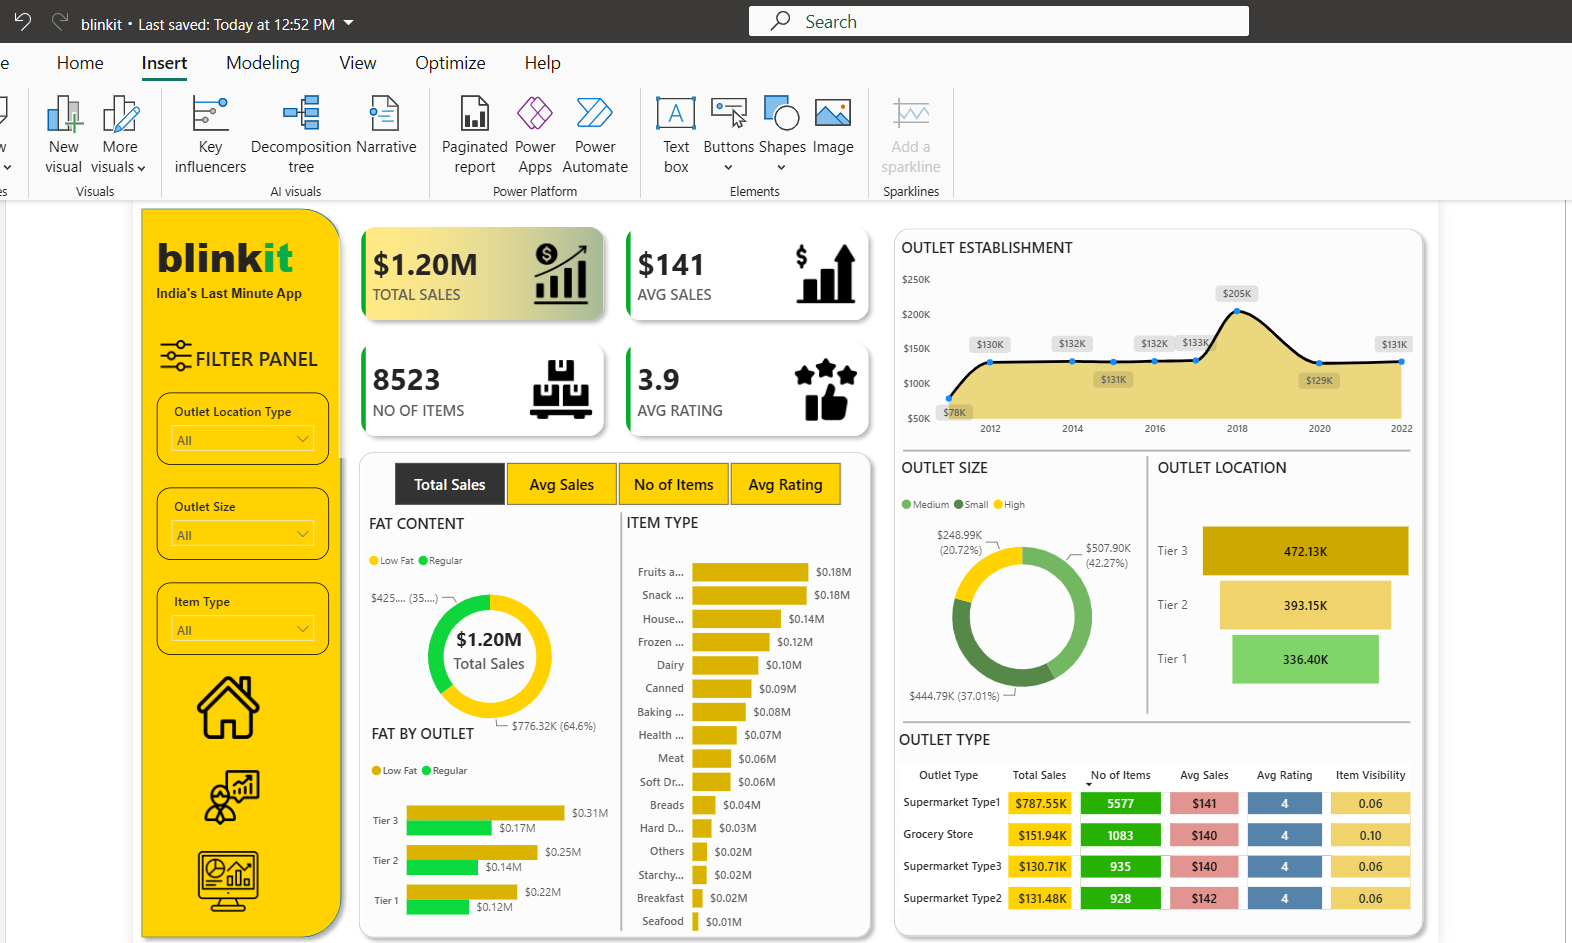

What the dashboard file says about the page in this screenshot:
{"tool":"powerbi","page":{"name":"Page 1","canvas":[1400,800],"ordinal":0},"visuals":[{"type":"shape","box":[0,0,232.6,800],"z":0},{"type":"textbox","box":[20,25.7,172.9,71],"z":1000},{"type":"textbox","box":[20,85.7,195.7,44.2],"z":2000},{"type":"cardVisual","fields":{"Data":["_Measures.Total Sales","_Measures.Avg Sales","_Measures.No of Items","_Measures.Avg Rating"]},"box":[215.7,0,603.3,283.7],"z":3000},{"type":"shape","box":[232.9,261.4,567.1,538.6],"z":4000},{"type":"donutChart","title":"FAT CONTENT","fields":{"Y":["_Measures.Avg Rating"],"Category":["BlinkIT Grocery Data (2).Item Fat Content"]},"box":[248.6,335.7,270,250],"z":5000},{"type":"slicer","fields":{"Values":["Metrics.Metrics"]},"box":[254.7,274.8,528.2,59],"z":6000},{"type":"cardVisual","fields":{"Data":["_Measures.Avg Rating"]},"box":[310,432.9,144.3,98.6],"z":7000},{"type":"clusteredBarChart","title":"FAT BY OUTLET","fields":{"Y":["_Measures.Avg Rating"],"Category":["BlinkIT Grocery Data (2).Outlet Location Type"],"Series":["BlinkIT Grocery Data (2).Item Fat Content"]},"box":[250.7,560.3,268.6,230],"z":8000},{"type":"shape","box":[455.7,335.7,135.7,448.6],"z":9000},{"type":"barChart","title":"ITEM TYPE","fields":{"Y":["_Measures.Avg Rating"],"Category":["BlinkIT Grocery Data (2).Item Type"]},"box":[524.1,333.8,252,465.1],"z":10000},{"type":"shape","box":[807.1,21.4,585.7,777.1],"z":11000},{"type":"lineChart","title":"OUTLET ESTABLISHMENT","fields":{"Y":["_Measures.Total Sales"],"Category":["BlinkIT Grocery Data (2).Outlet Establishment Year"]},"box":[818.6,38.6,558.6,222.9],"z":12000},{"type":"shape","box":[825.7,219.8,544.2,97.9],"z":13000},{"type":"donutChart","title":"OUTLET SIZE","fields":{"Y":["_Measures.Total Sales"],"Category":["BlinkIT Grocery Data (2).Outlet Size"]},"box":[819,274.8,269.4,285.5],"z":14000},{"type":"shape","box":[1020.1,274.8,135.4,276.1],"z":15000},{"type":"funnel","title":"OUTLET LOCATION","fields":{"Y":["Sum(BlinkIT Grocery Data (2).Sales)"],"Category":["BlinkIT Grocery Data (2).Outlet Location Type"]},"box":[1093.8,274.8,284.2,285.5],"z":16000},{"type":"shape","box":[825.7,510.7,544.3,98.6],"z":17000},{"type":"pivotTable","title":"OUTLET TYPE","fields":{"Rows":["BlinkIT Grocery Data (2).Outlet Type"],"Values":["_Measures.Total Sales","_Measures.No of Items","_Measures.Avg Sales","_Measures.Avg Rating","Avg(BlinkIT Grocery Data (2).Item Visibility)"]},"box":[816.4,567,568.4,213.1],"z":18000},{"type":"slicer","fields":{"Values":["BlinkIT Grocery Data (2).Outlet Location Type"]},"box":[25.5,206.4,185,77.7],"z":19000},{"type":"slicer","fields":{"Values":["BlinkIT Grocery Data (2).Outlet Size"]},"box":[25.5,308.3,185,77.7],"z":20000},{"type":"slicer","fields":{"Values":["BlinkIT Grocery Data (2).Item Type"]},"box":[25.5,410.2,185,77.7],"z":21000},{"type":"textbox","box":[61.5,150.1,153.1,49.5],"z":21001},{"type":"image","box":[17.4,150.1,57.6,33.5],"z":21002},{"type":"image","box":[46.9,697.1,109.9,67],"z":21003},{"type":"image","box":[50.9,607.2,109.9,67],"z":21004},{"type":"image","box":[46.9,510.7,109.9,67],"z":21005}]}

Visuals, with their boxes on the page's 1400x800 design canvas (x1, y1, x2, y2). These are canvas units, not pixel positions in the 1572x943 screenshot, which may show the page scaled, cropped or inside an application window:
shape: box(0, 0, 233, 800)
textbox: box(20, 26, 193, 97)
textbox: box(20, 86, 216, 130)
cardVisual - _Measures.Total Sales x _Measures.Avg Sales: box(216, 0, 819, 284)
shape: box(233, 261, 800, 800)
"FAT CONTENT" donutChart: box(249, 336, 519, 586)
slicer - Metrics.Metrics: box(255, 275, 783, 334)
cardVisual - _Measures.Avg Rating: box(310, 433, 454, 532)
"FAT BY OUTLET" clusteredBarChart: box(251, 560, 519, 790)
shape: box(456, 336, 591, 784)
"ITEM TYPE" barChart: box(524, 334, 776, 799)
shape: box(807, 21, 1393, 798)
"OUTLET ESTABLISHMENT" lineChart: box(819, 39, 1377, 262)
shape: box(826, 220, 1370, 318)
"OUTLET SIZE" donutChart: box(819, 275, 1088, 560)
shape: box(1020, 275, 1156, 551)
"OUTLET LOCATION" funnel: box(1094, 275, 1378, 560)
shape: box(826, 511, 1370, 609)
"OUTLET TYPE" pivotTable: box(816, 567, 1385, 780)
slicer - BlinkIT Grocery Data (2).Outlet Location Type: box(26, 206, 210, 284)
slicer - BlinkIT Grocery Data (2).Outlet Size: box(26, 308, 210, 386)
slicer - BlinkIT Grocery Data (2).Item Type: box(26, 410, 210, 488)
textbox: box(62, 150, 215, 200)
image: box(17, 150, 75, 184)
image: box(47, 697, 157, 764)
image: box(51, 607, 161, 674)
image: box(47, 511, 157, 578)
